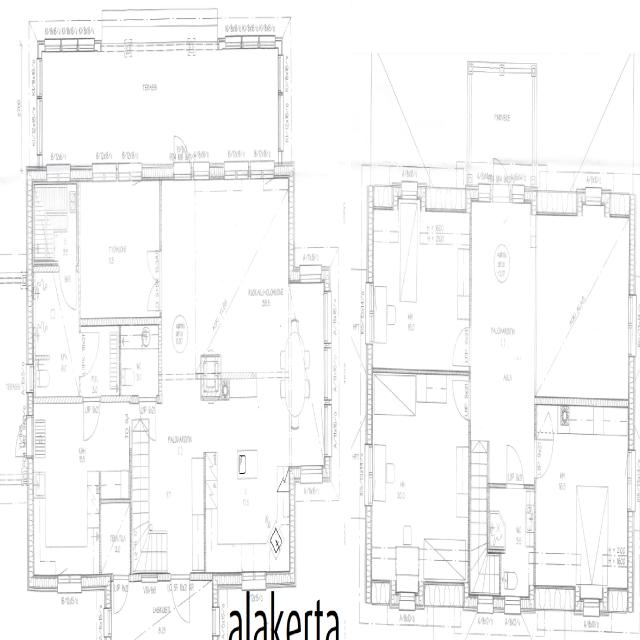door: (8, 415, 34, 457), (171, 572, 189, 623), (59, 260, 76, 311), (174, 128, 190, 182), (78, 333, 98, 376), (493, 148, 509, 200), (83, 396, 100, 442), (139, 396, 156, 442), (506, 444, 524, 487), (452, 327, 470, 366), (452, 381, 470, 420), (534, 439, 552, 478), (114, 572, 128, 615), (147, 281, 162, 311), (147, 252, 162, 281)
